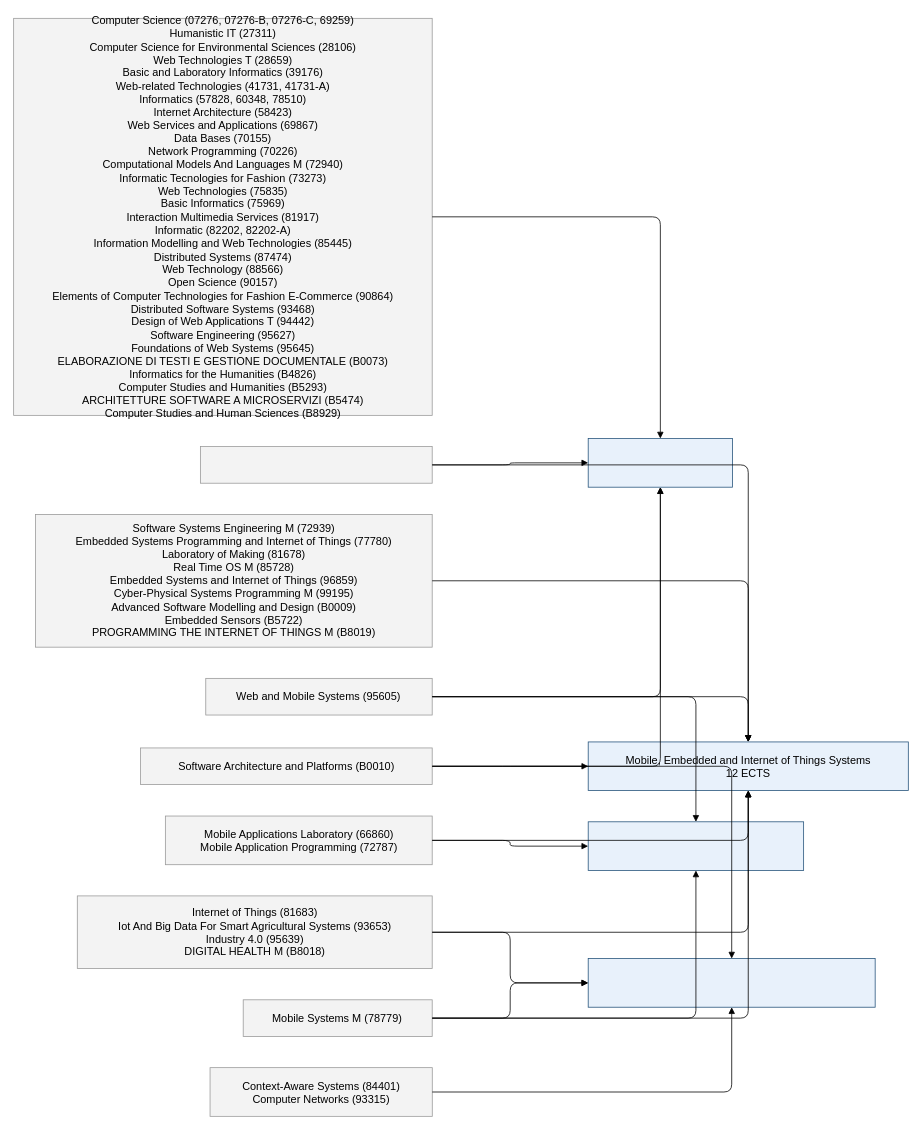
Image size: 922x1130. Some labels were removed from this diagram. The centre of each missing label's shape, as x and y in pixels:
Context-Aware and Location-Based Systems 9 ECTS: the point at 731,982
Mobile Application Engineering 6 ECTS: the point at 695,845
Web Development 12 ECTS: the point at 659,462
Web Systems Engineering (47240): the point at 316,464
